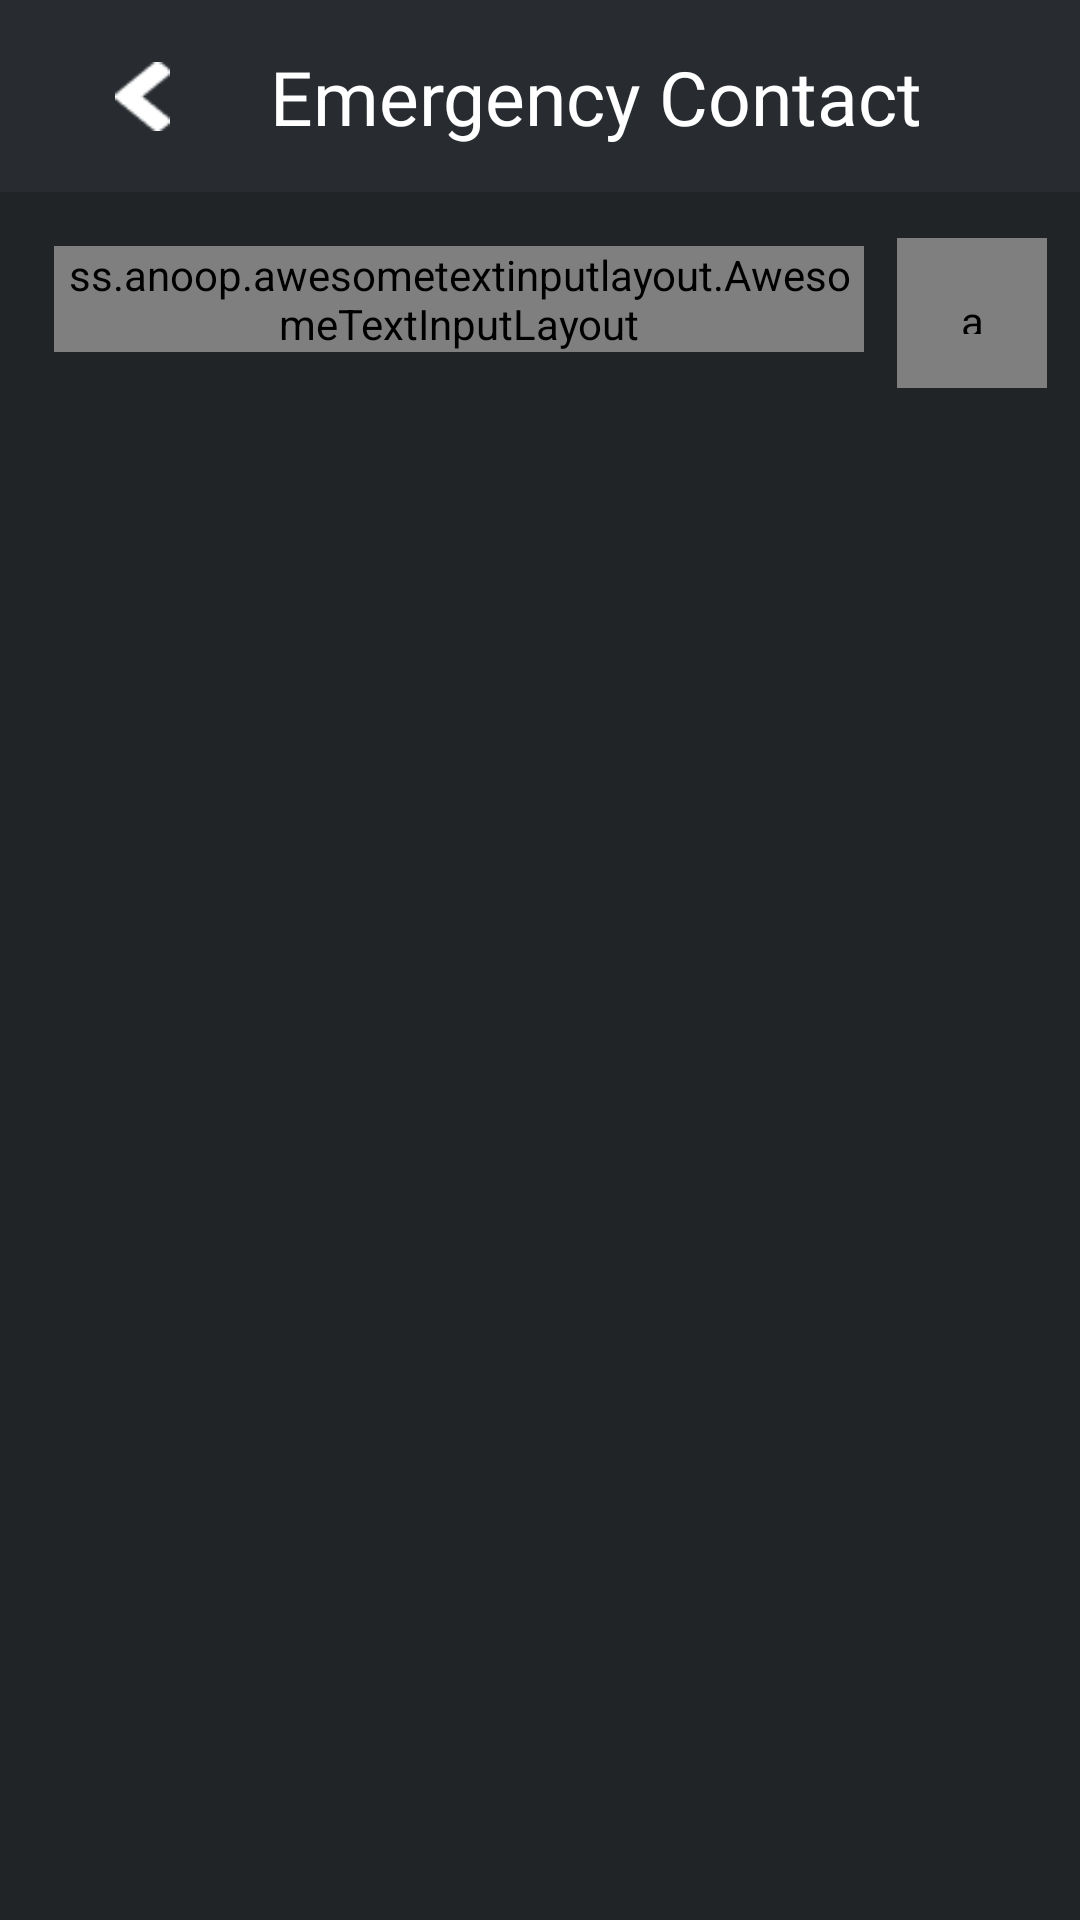

Named icons in this screenshot (1080px×1920px) and their centers, [x,y]:
back: [142,96]
